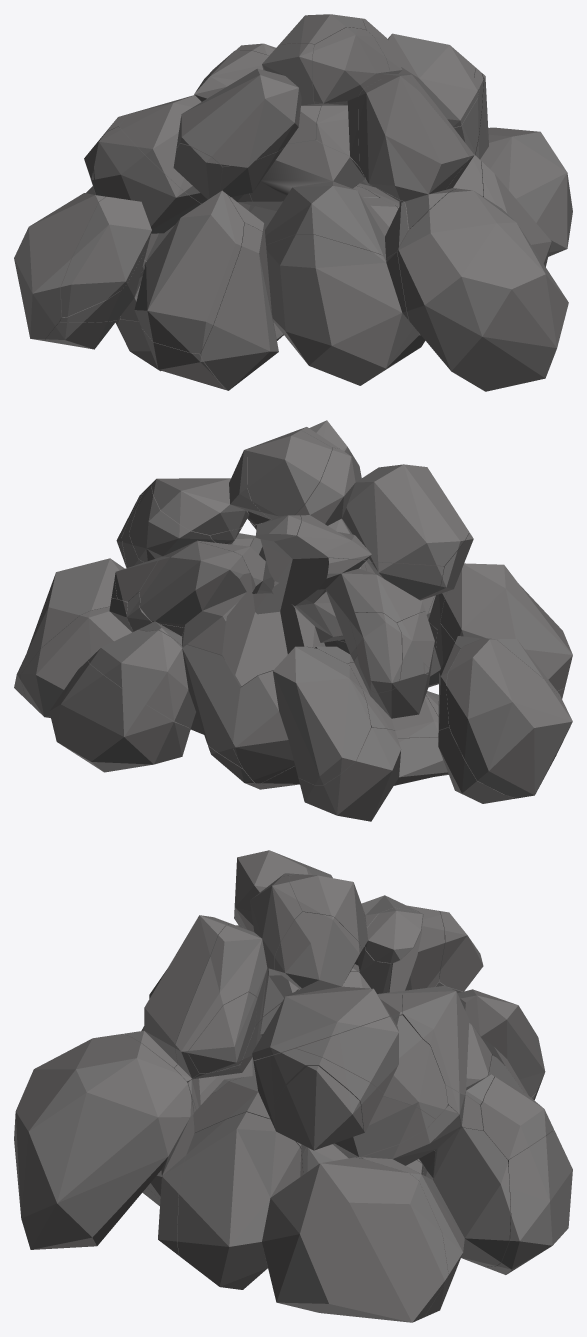
Rendered from FracturedRocks.fbx.
3 renders of one model, top to bottom at view 1: azimuth 30°, elevation 25°; view 2: azimuth 150°, elevation 25°; view 3: azimuth 270°, elevation 25°, orthographic. The views are drawn at different scales.
Visible parts, largest first — view 1: barrier_cell.027, barrier_cell.032, barrier_cell.010, barrier_cell, barrier_cell.003, barrier_cell.014, barrier_cell.007, barrier_cell.031, barrier_cell.008, barrier_cell.033, barrier_cell.022, barrier_cell.025 (+9 smaller); view 2: barrier_cell.017, barrier_cell.022, barrier_cell.010, barrier_cell.012, barrier_cell.015, barrier_cell.004, barrier_cell.009, barrier_cell.026, barrier_cell.003, barrier_cell.013, barrier_cell.024, barrier_cell.011 (+14 smaller); view 3: barrier_cell.007, barrier_cell.027, barrier_cell.011, barrier_cell.021, barrier_cell.008, barrier_cell.005, barrier_cell.001, barrier_cell.004, barrier_cell.026, barrier_cell.024, barrier_cell.014, barrier_cell.017 (+9 smaller).
Boxes of the visible parts, x1,y1,x2,y2 form: barrier_cell.027: (397, 188, 568, 391); barrier_cell.032: (266, 234, 424, 385); barrier_cell.010: (177, 43, 321, 166); barrier_cell: (220, 139, 411, 258); barrier_cell.003: (134, 190, 244, 353); barrier_cell.014: (358, 75, 468, 229); barrier_cell.007: (475, 73, 572, 266); barrier_cell.031: (200, 223, 278, 390); barrier_cell.008: (312, 27, 474, 189); barrier_cell.033: (61, 196, 151, 317); barrier_cell.022: (14, 193, 105, 340); barrier_cell.025: (85, 126, 201, 283); barrier_cell.017: (233, 646, 370, 784); barrier_cell.022: (446, 638, 572, 798); barrier_cell.010: (294, 447, 469, 566); barrier_cell.012: (88, 629, 242, 768); barrier_cell.015: (259, 727, 514, 821); barrier_cell.004: (49, 661, 190, 772); barrier_cell.009: (222, 534, 328, 687); barrier_cell.026: (139, 542, 252, 659); barrier_cell.003: (440, 563, 572, 690); barrier_cell.013: (292, 558, 425, 663); barrier_cell.024: (247, 430, 331, 535); barrier_cell.011: (21, 598, 203, 734); barrier_cell.007: (177, 1066, 448, 1322); barrier_cell.027: (14, 1034, 194, 1255); barrier_cell.011: (303, 1105, 510, 1317); barrier_cell.021: (252, 912, 390, 1060); barrier_cell.008: (174, 875, 302, 1081); barrier_cell.005: (192, 1048, 434, 1172); barrier_cell.001: (283, 1015, 447, 1118); barrier_cell.004: (485, 1130, 572, 1274); barrier_cell.026: (402, 986, 494, 1104); barrier_cell.024: (289, 874, 422, 963); barrier_cell.014: (124, 915, 233, 1068); barrier_cell.017: (457, 989, 545, 1097).
Size of the model in its own units: 301 by 163 by 241.
1 material, 1 textured.
